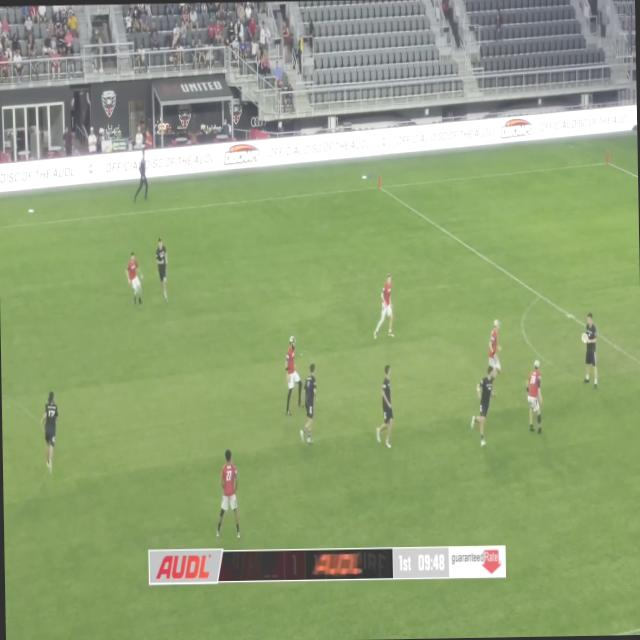Disc: (581, 332, 588, 342), (28, 209, 34, 212), (362, 176, 366, 178)
Player: (214, 448, 242, 540), (470, 364, 497, 446), (40, 389, 60, 474), (298, 362, 318, 443), (375, 364, 394, 448), (284, 336, 304, 414), (580, 312, 597, 390), (374, 274, 394, 340), (526, 359, 543, 434), (487, 319, 502, 396), (124, 250, 144, 306), (154, 235, 170, 304)
